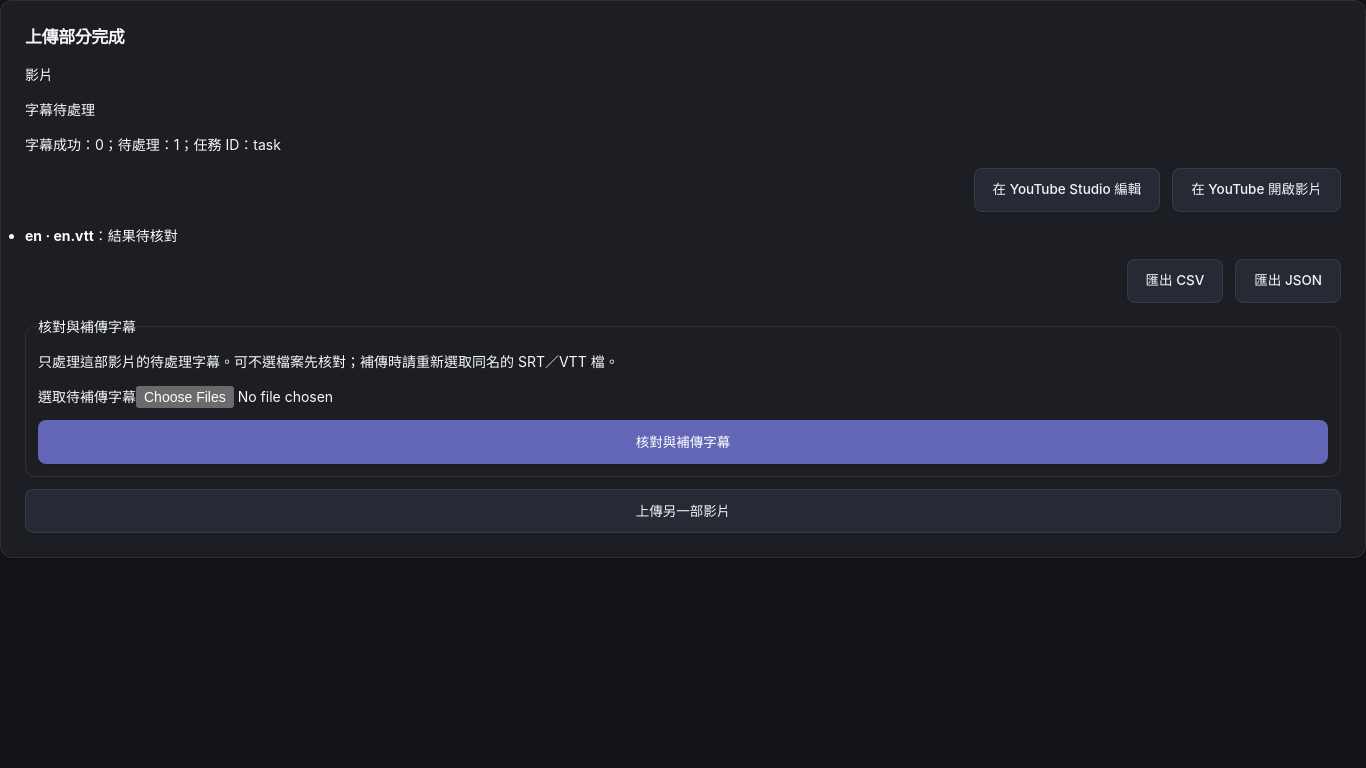
Scenario: upload task details › locks direct retry after a timeout and preserves the original video link
The width and height of the screenshot is (1366, 768).
Click the button "核對與補傳字幕". click: [683, 442]
box: [38,420,1328,464]
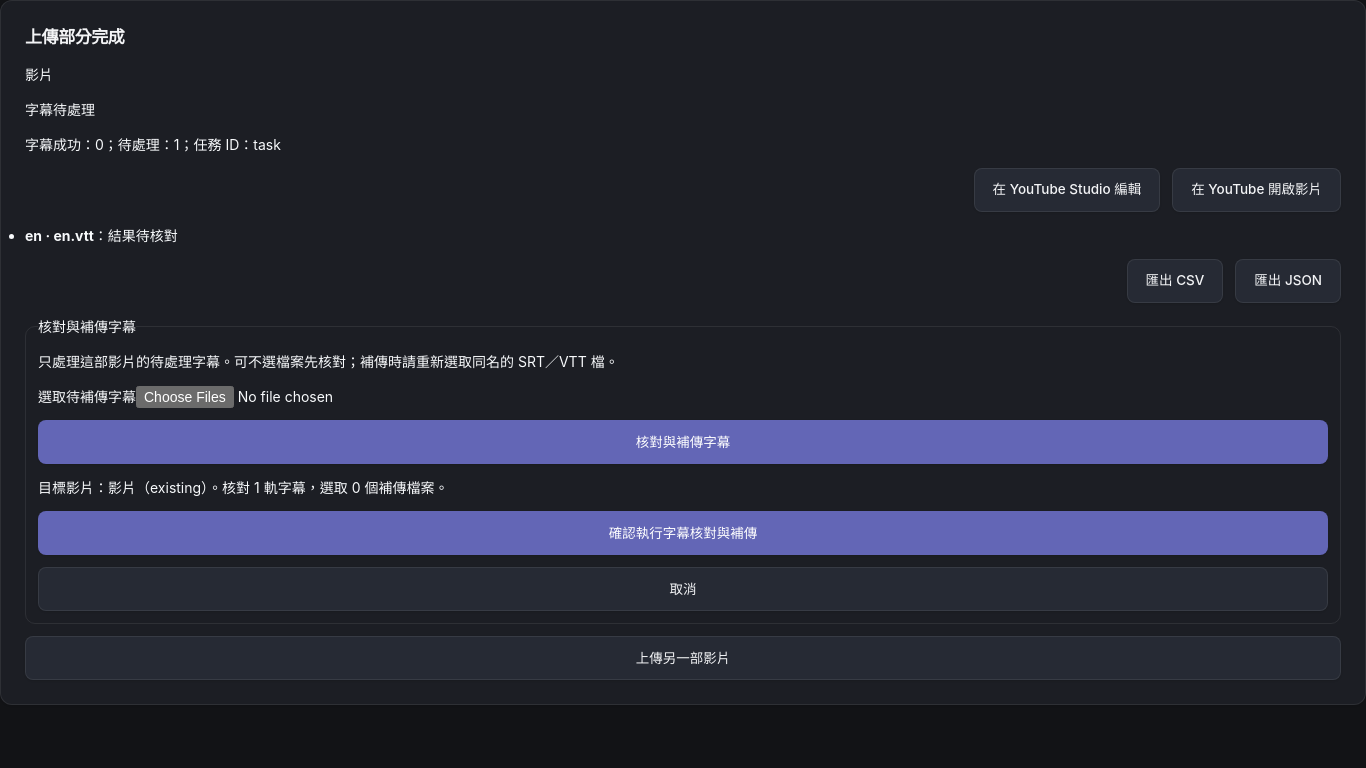
Click the button "確認執行字幕核對與補傳". click: [683, 533]
box: [38,511,1328,555]
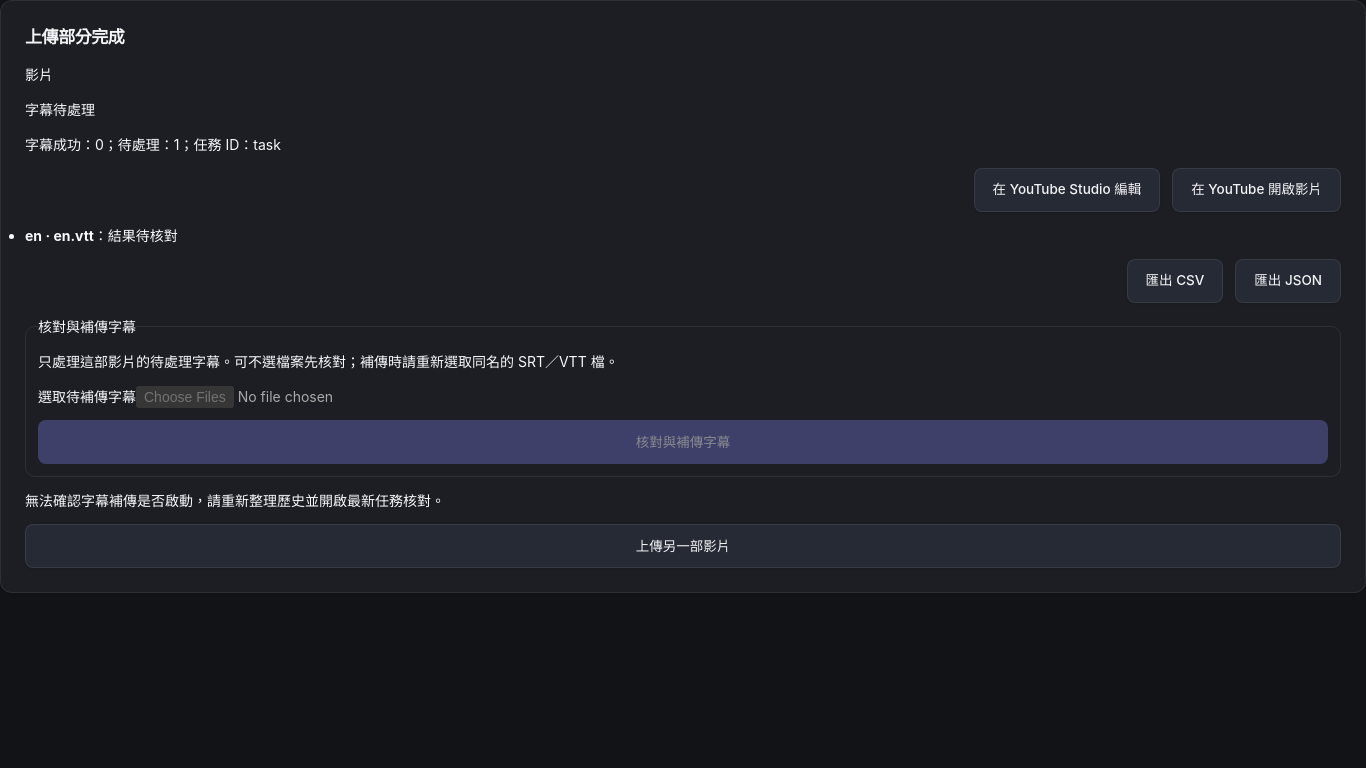
Expected: the button "核對與補傳字幕" is disabled, [38,420,1328,464]
Result: the message "無法確認字幕補傳是否啟動，請重新整理歷史並開啟最新任務核對。" is shown at [25,492,445,509]
